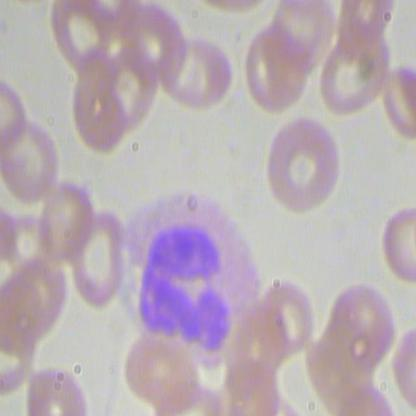RBC: (265, 117, 348, 217), (241, 20, 317, 118), (315, 18, 391, 116), (155, 33, 235, 108), (70, 206, 128, 308), (47, 1, 115, 75), (1, 119, 60, 204), (378, 201, 415, 283)
WBC: (112, 181, 264, 370)
